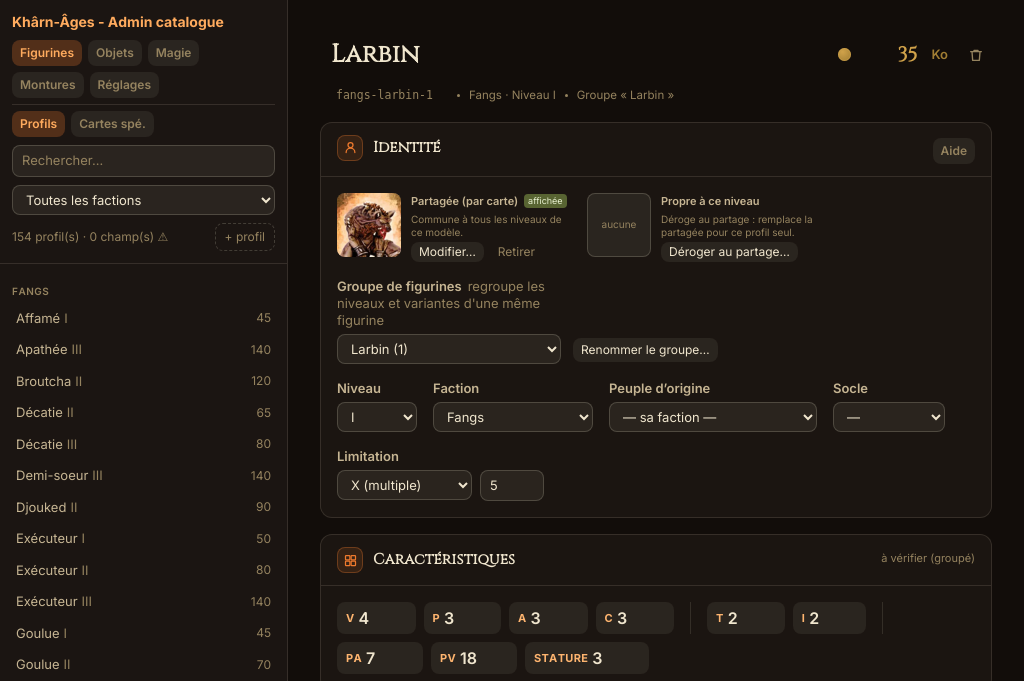
Test: AdminCatalog (rendu) › ouvre l'onglet Réglages (grimoires, surcoût Tembo)
Click the button "Réglages" at (124, 85), box left=90, top=72, right=159, bottom=98
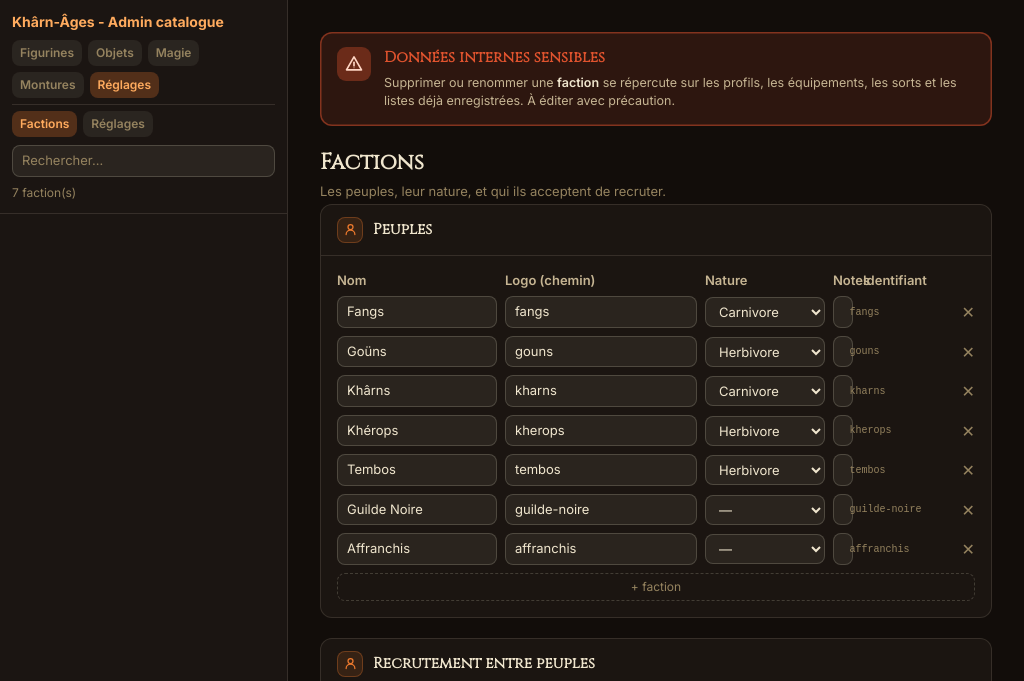
Click the 2nd button "Réglages" at (118, 124), box left=83, top=111, right=153, bottom=137
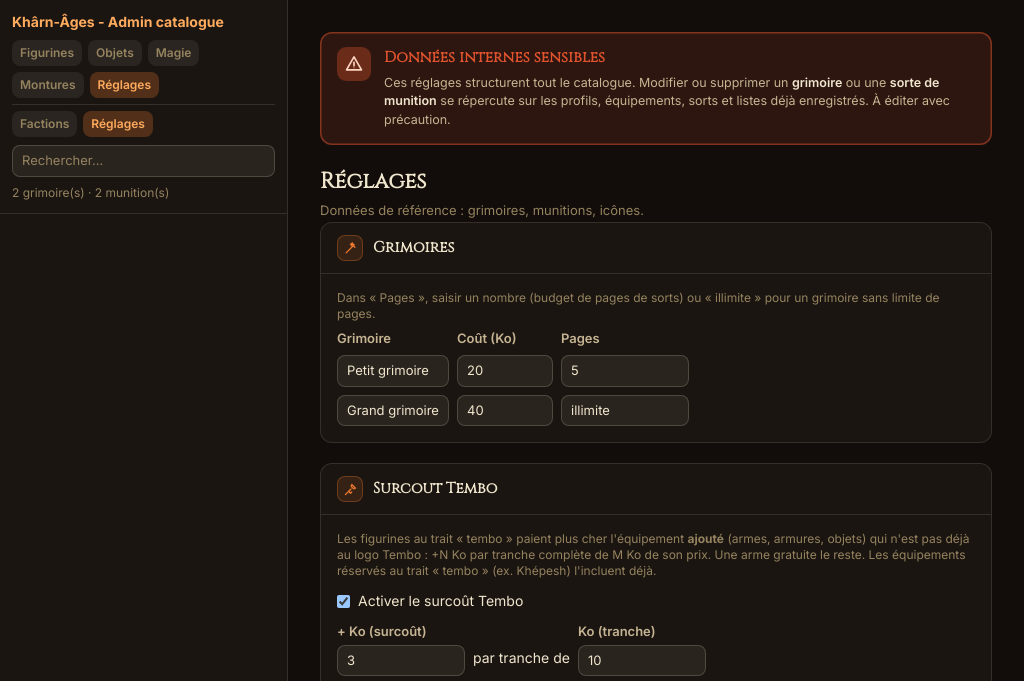
Expected: the heading "Grimoires" is shown, left=373, top=237, right=455, bottom=260
Expected: the heading "Surcoût Tembo" is shown, left=373, top=478, right=498, bottom=501
